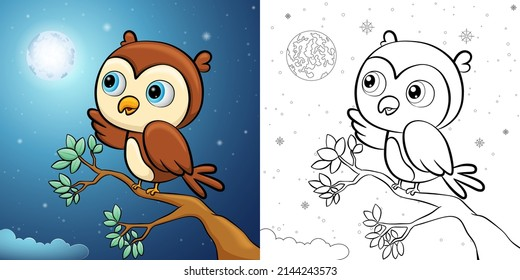bird: (346, 29, 492, 201), (83, 28, 225, 201)
